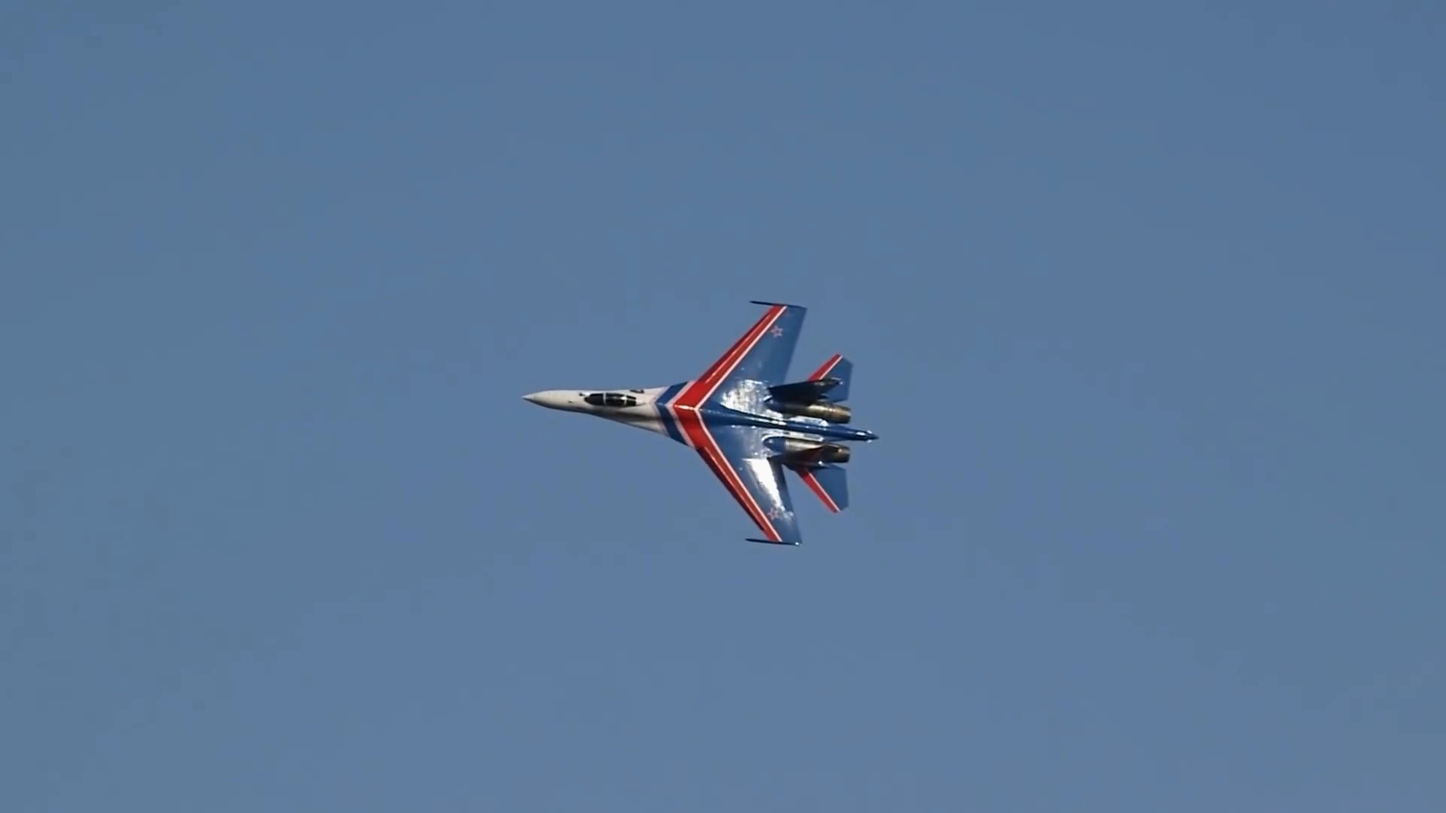Su35: (522, 297, 878, 546)
